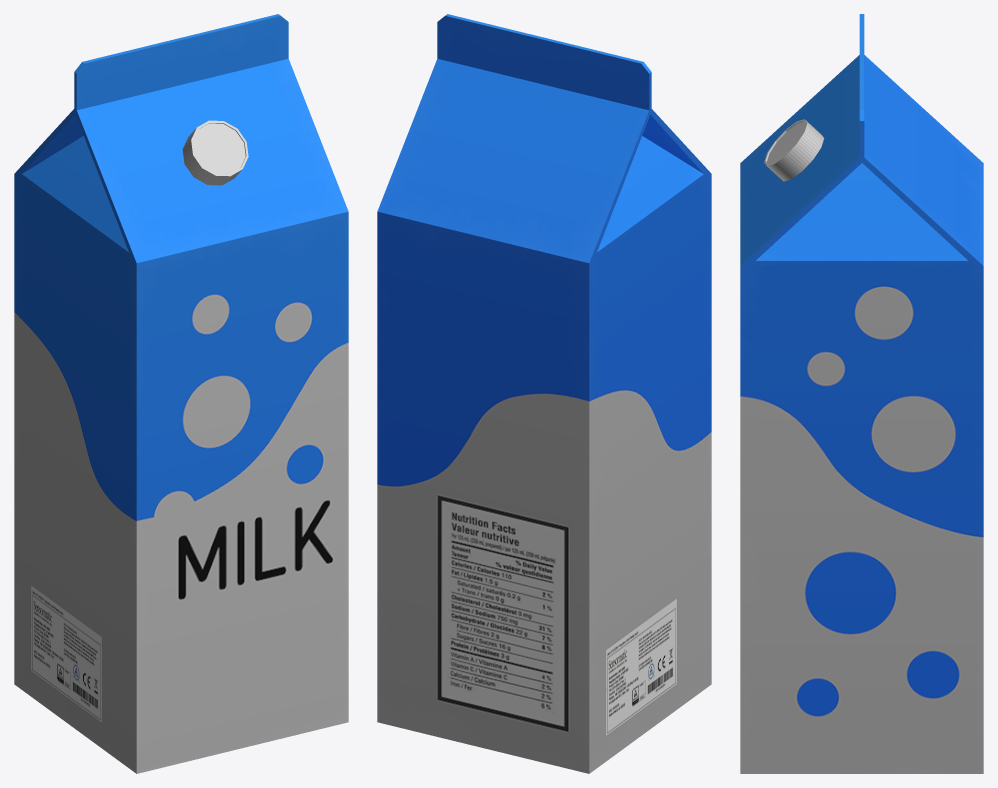
File: milk.glb
The picture shows the model from 3 angles, left to right: view 1: azimuth 30°, elevation 25°; view 2: azimuth 150°, elevation 25°; view 3: azimuth 270°, elevation 25°; orthographic projection.
Visible parts, largest first — view 1: MilkBox_MilkBox_0; view 2: MilkBox_MilkBox_0; view 3: MilkBox_MilkBox_0.
Part boxes in pixels (x1,y1,x2,y2): MilkBox_MilkBox_0: [14, 14, 348, 773]; MilkBox_MilkBox_0: [377, 14, 711, 773]; MilkBox_MilkBox_0: [740, 14, 983, 773].
Size of the model in its own units: 8.23 by 24.67 by 8.23.
Materials: 1 (1 with a texture image).
